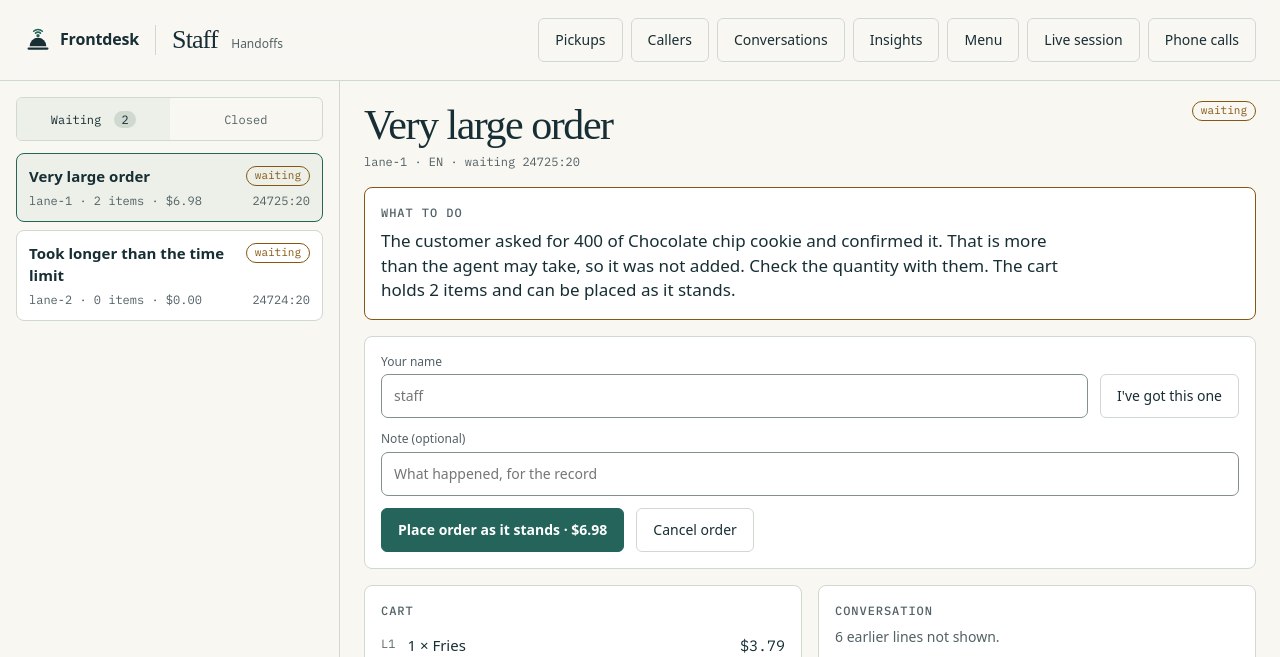
it: the staff screen › lets someone say they have picked it up, by name
In the field labelled "Your name": (734, 396) top-left (381, 374), bottom-right (1088, 418), type "Sam"
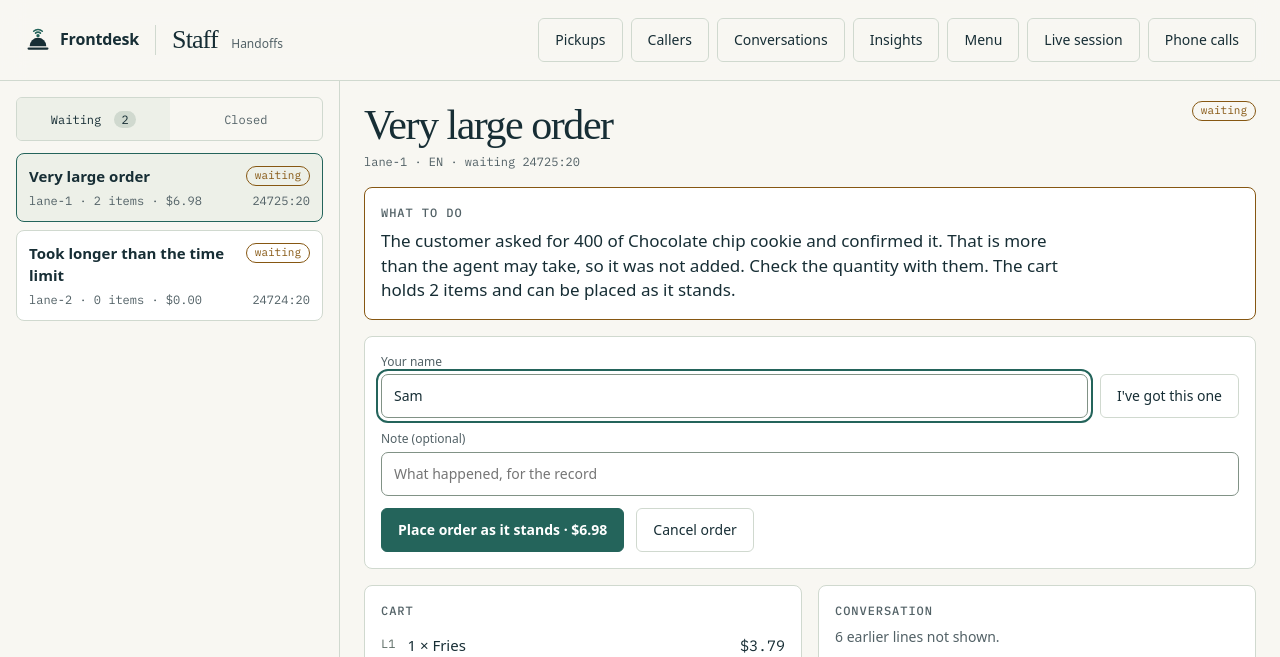
Click the button "I've got this one": (1170, 396) top-left (1100, 374), bottom-right (1239, 418)
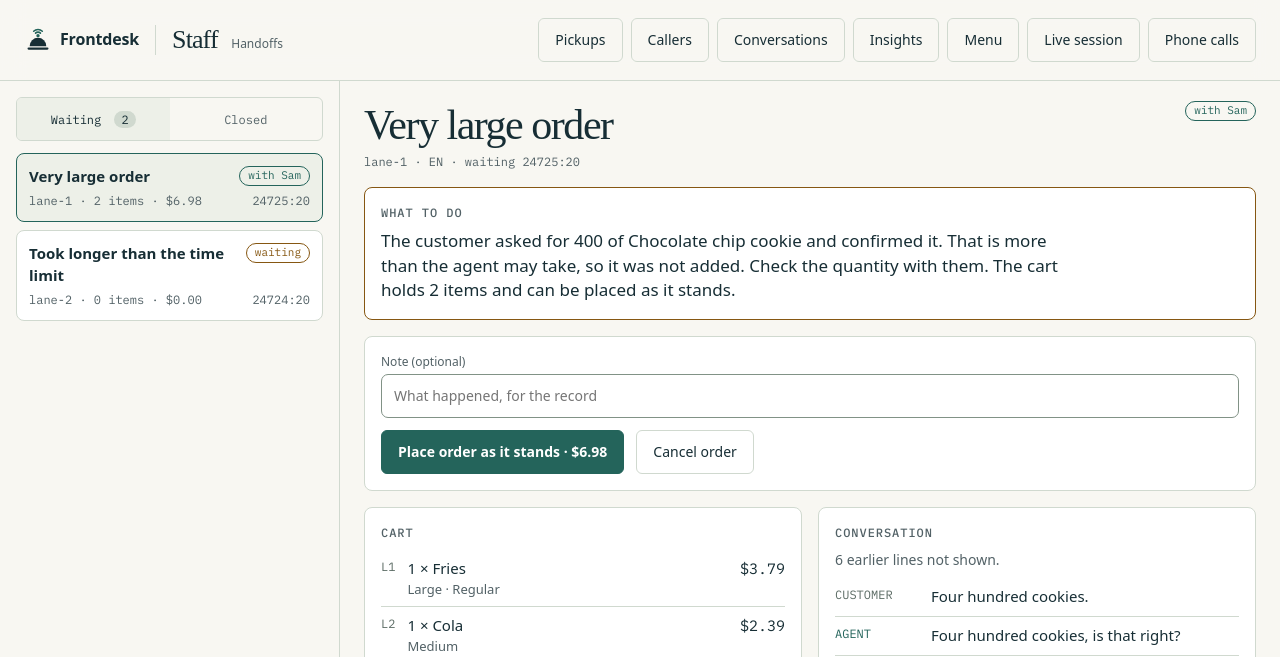
Now the button "Very large order with Sam lane-1 · 2 items · $6.98 24725:20" is shown, box top-left (16, 153), bottom-right (323, 222)
Now the button "I've got this one" is gone
